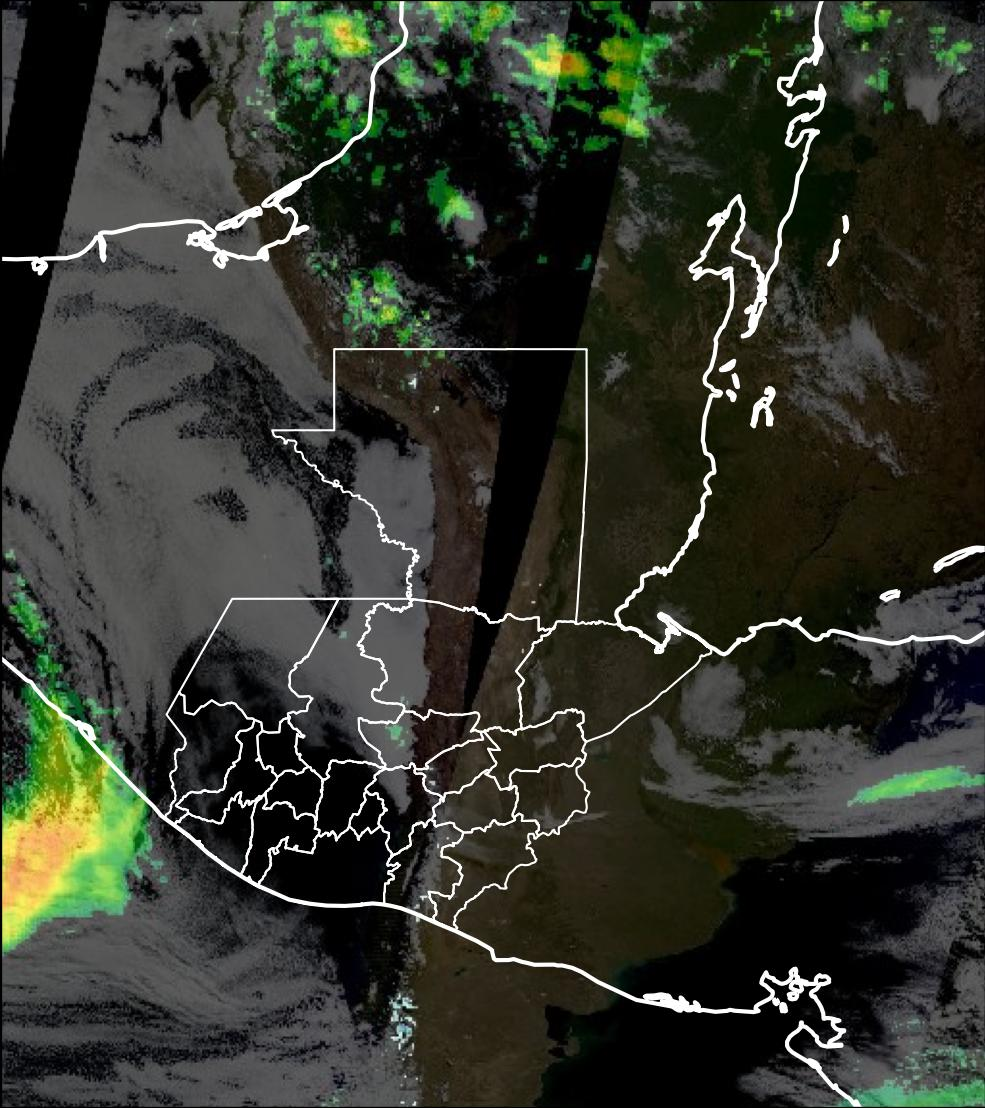precipitacion: (1, 769, 102, 940)
